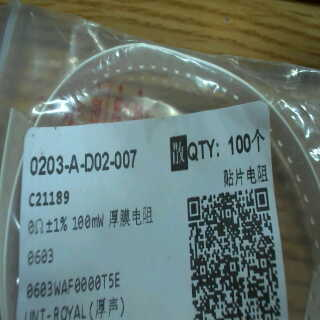0R: (24, 211, 106, 270)
